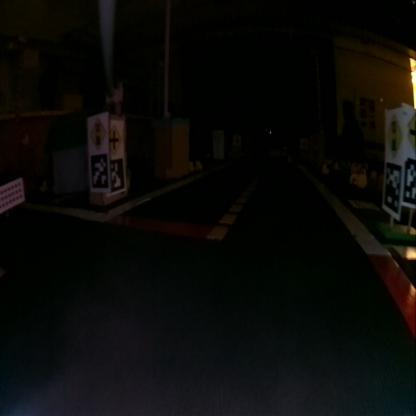Intersection sign: (110, 122, 121, 152)
QR code: (382, 160, 401, 214), (88, 157, 107, 188), (108, 157, 126, 188)
Signal sign: (384, 113, 401, 152), (87, 117, 105, 150)
